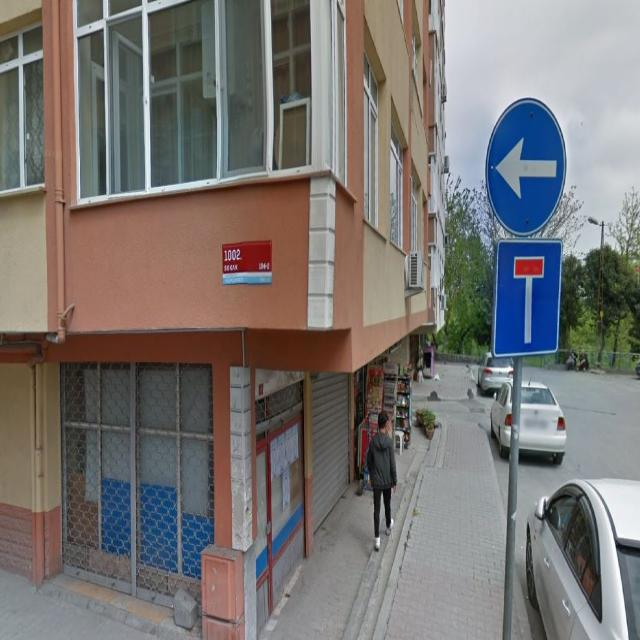sol: (486, 99, 566, 235)
